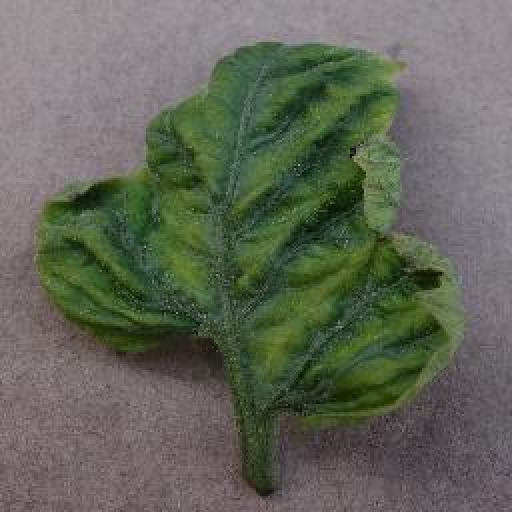Yellow Leaf Curl Virus: (37, 39, 468, 425)
